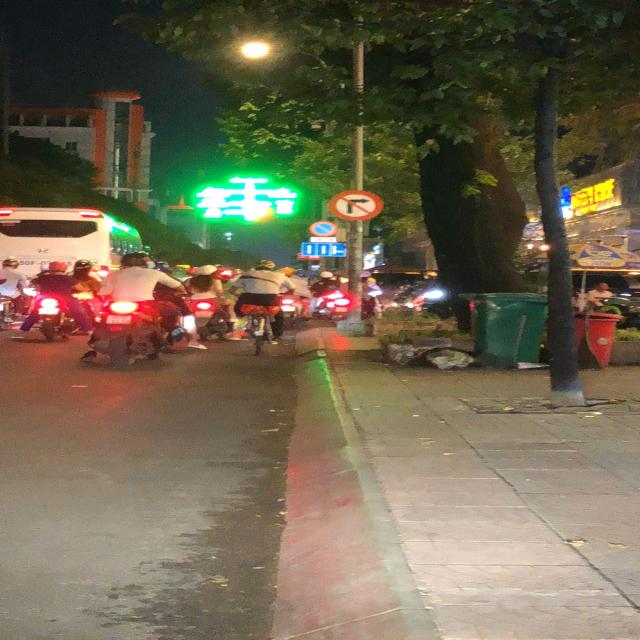Bien bao cam re phai: (328, 187, 386, 222)
